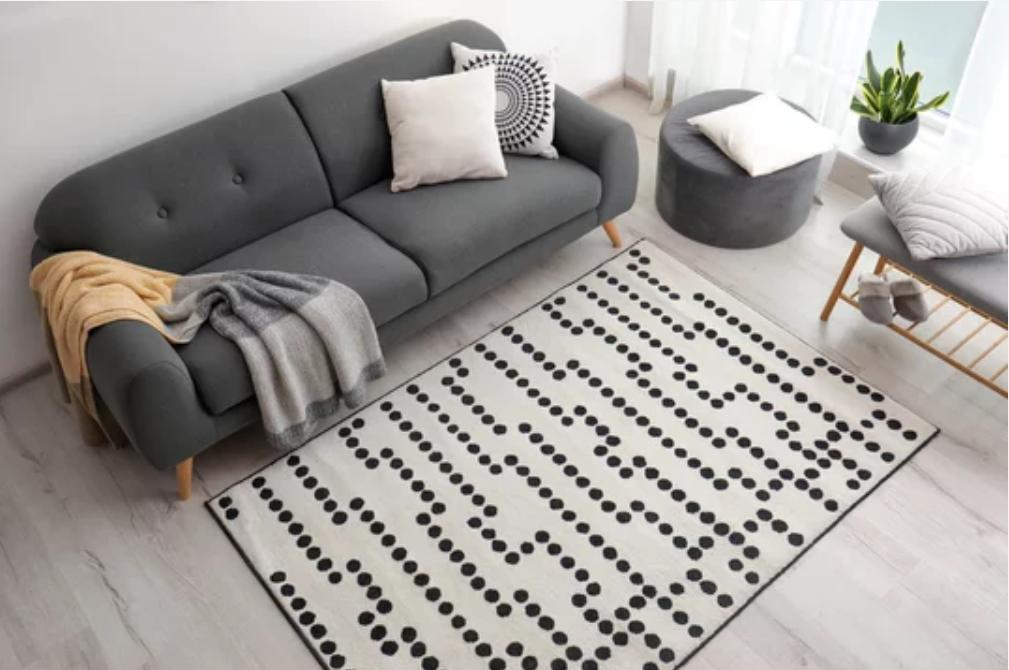carpet: (192, 108, 940, 670)
